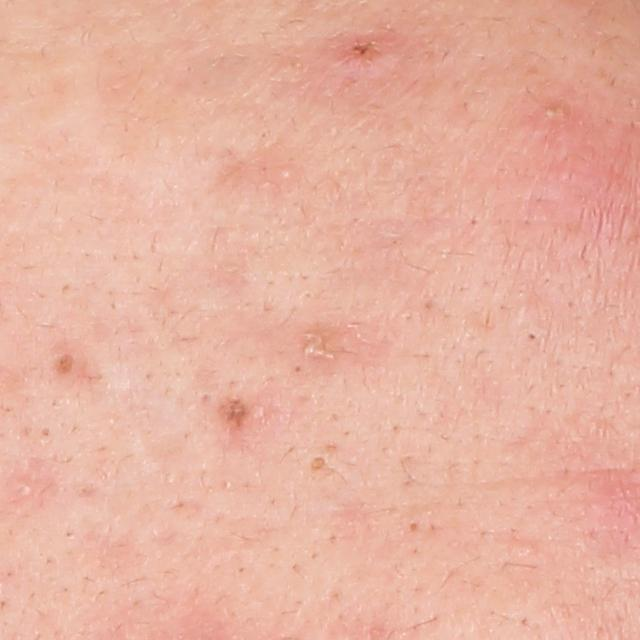comedo: (54, 351, 78, 380), (302, 453, 330, 476), (19, 481, 38, 494), (277, 167, 292, 182), (406, 519, 420, 535), (291, 360, 304, 376), (526, 332, 540, 345)
papule: (322, 32, 399, 79)
